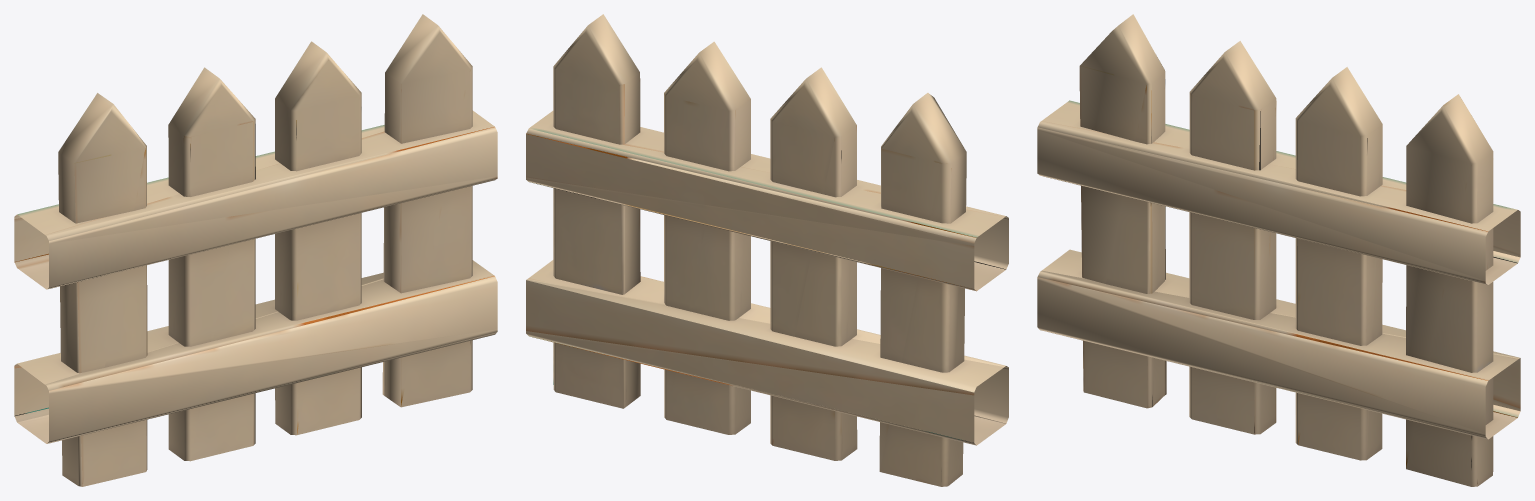
File: fence_picket_bare.glb
The picture shows the model from 3 angles, left to right: view 1: azimuth 30°, elevation 25°; view 2: azimuth 150°, elevation 25°; view 3: azimuth 330°, elevation 25°; orthographic projection.
Visible parts, largest first — view 1: fence_picket; view 2: fence_picket; view 3: fence_picket.
Part boxes in pixels (x1,y1,x2,y2): fence_picket: (14, 14, 497, 486); fence_picket: (526, 14, 1008, 486); fence_picket: (1037, 14, 1520, 486).
Bounding box in the file's own units: 0.3931 × 0.3135 × 0.0527.
1 material, 1 textured.
